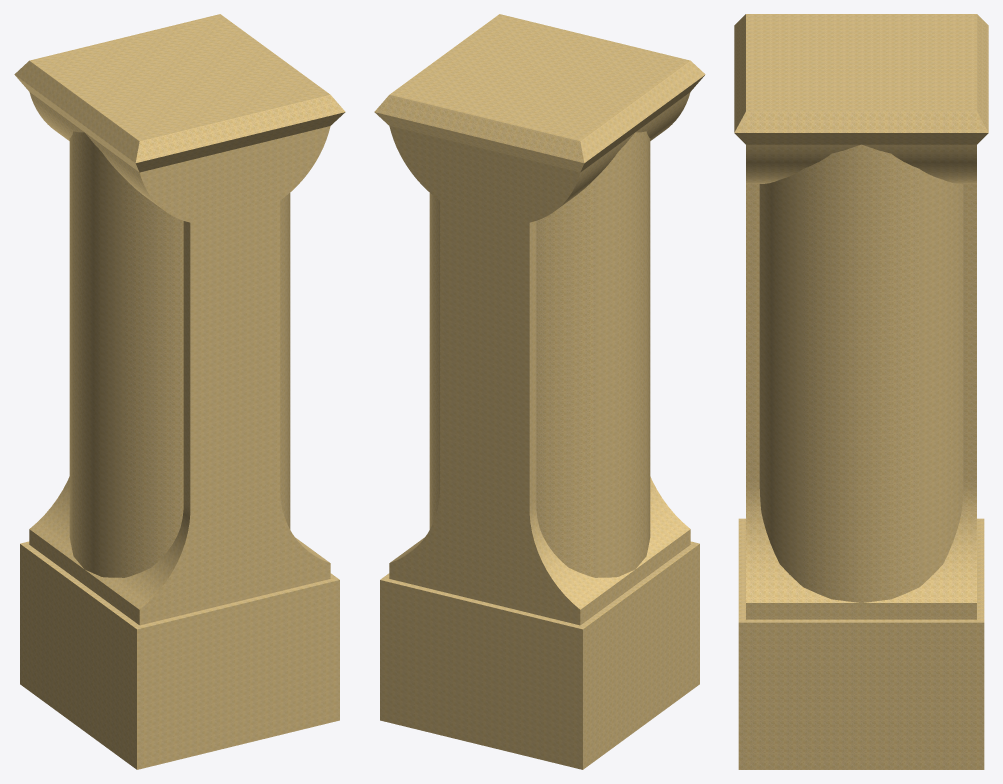
The model's file is Saeule.gltf.
The picture shows the model from 3 angles, left to right: view 1: azimuth 30°, elevation 25°; view 2: azimuth 150°, elevation 25°; view 3: azimuth 270°, elevation 25°; orthographic projection. The views are drawn at different scales.
Size of the model in its own units: 0.704 by 2 by 0.704.
Materials: 1 (1 with a texture image).
